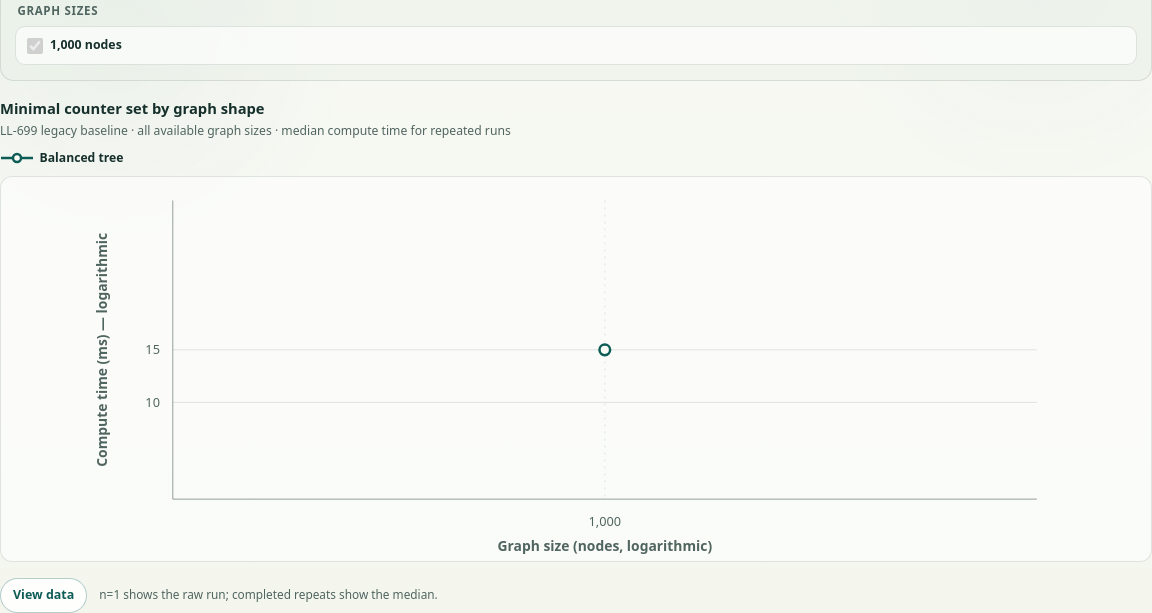
Test case: InsightsLabTrends › switches among recorded metrics and aggregates repeated runs using the selected metric
(page scrolled)
Click the button "View data" at coordinates (44, 595), box [0,578,87,612]
(page scrolled)
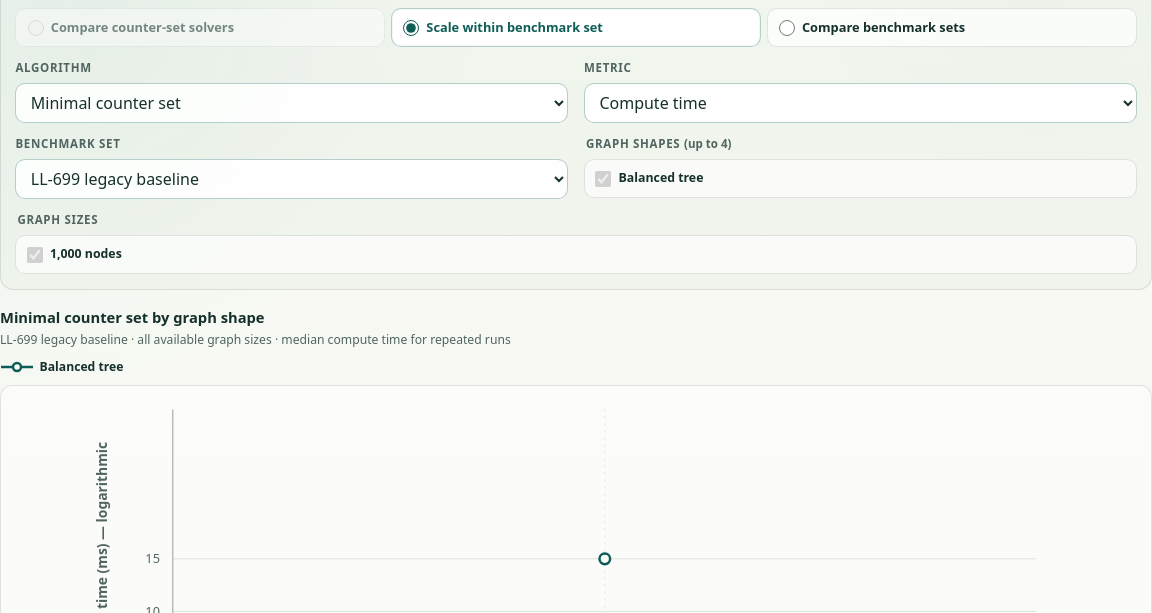
Select "Total operation time" in the dropdown labelled "Metric" at coordinates (860, 103), box [584,83,1137,123]
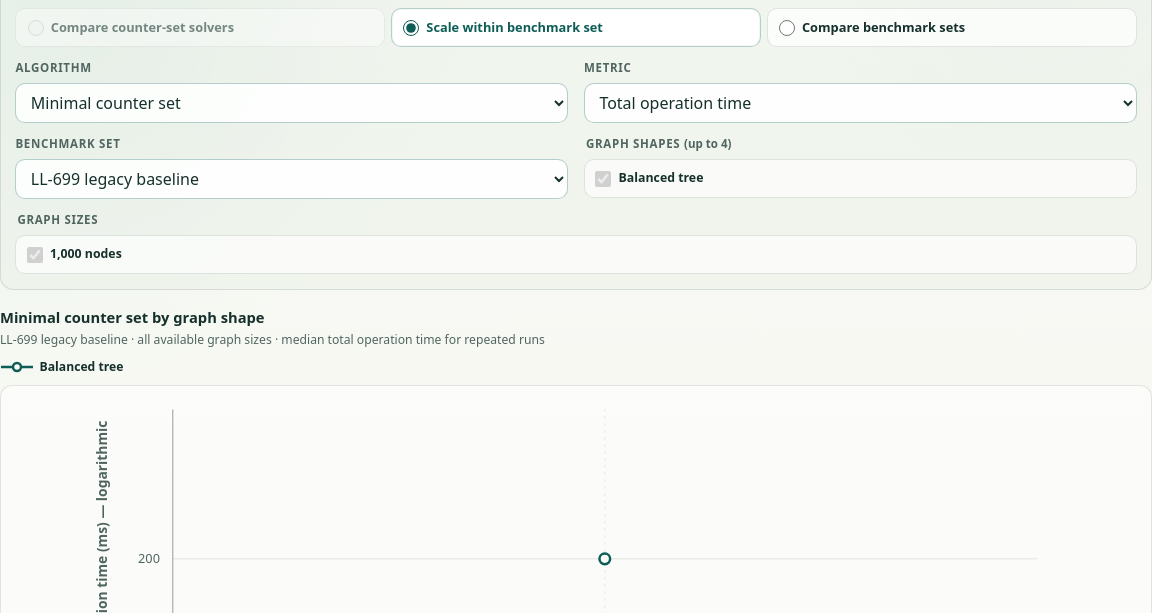
Select "CPU time" in the dropdown labelled "Metric" at coordinates (860, 103), box [584,83,1137,123]
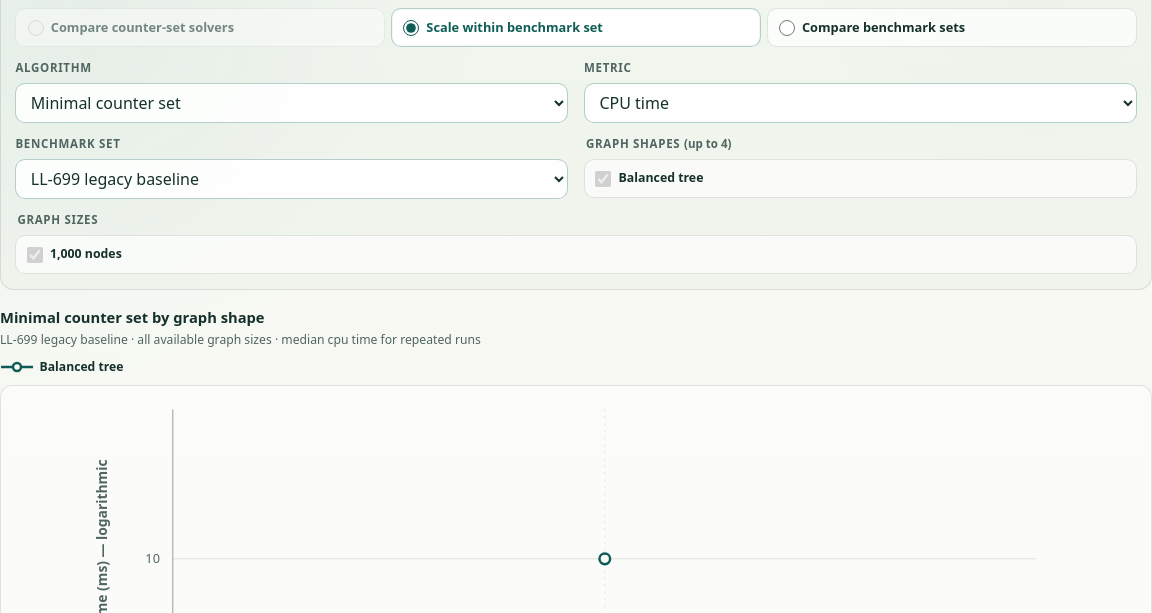
Select "Managed allocations" in the dropdown labelled "Metric" at coordinates (860, 103), box [584,83,1137,123]
(page scrolled)
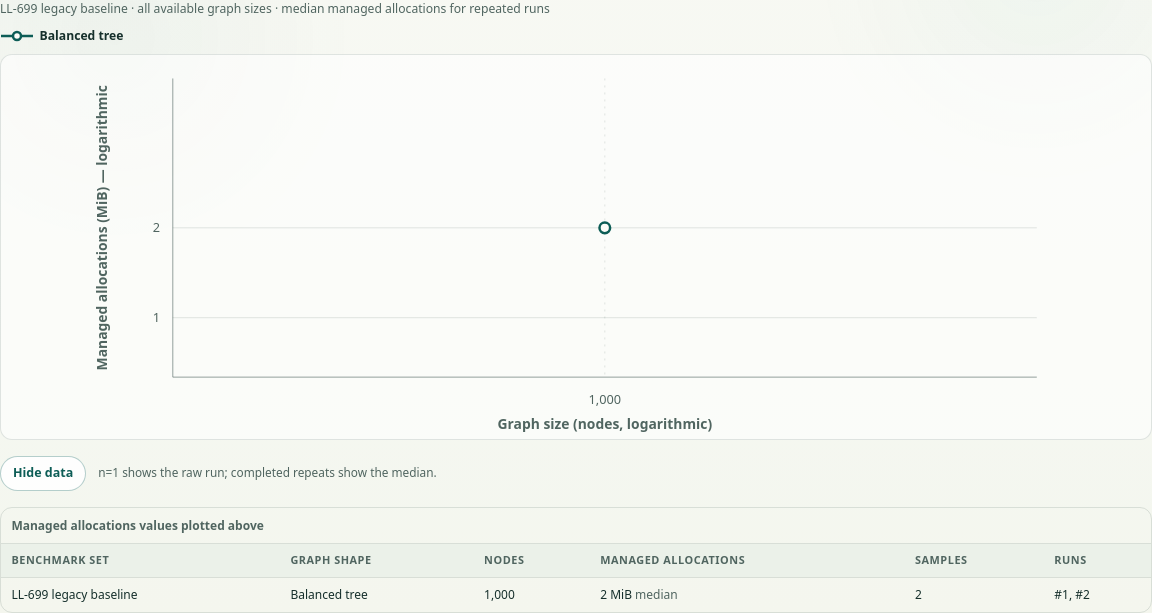
Check: the column heading "Managed allocations" is shown, box [590,544,905,577]
